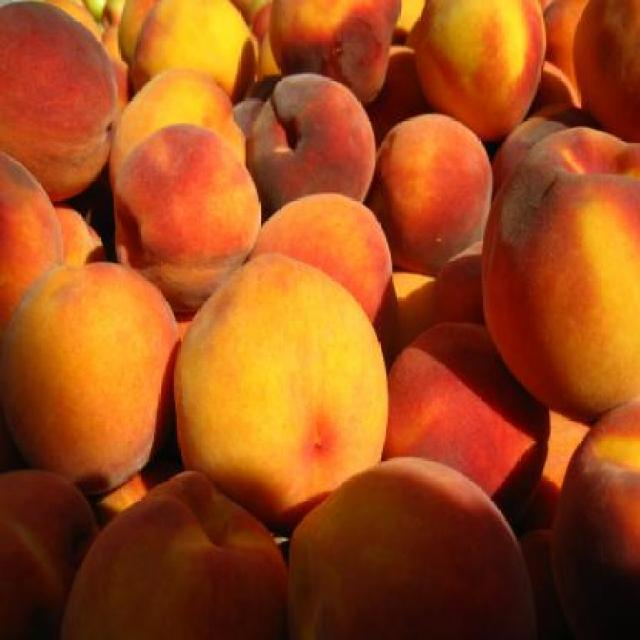Peach: (0, 0, 638, 638), (115, 118, 252, 286)
